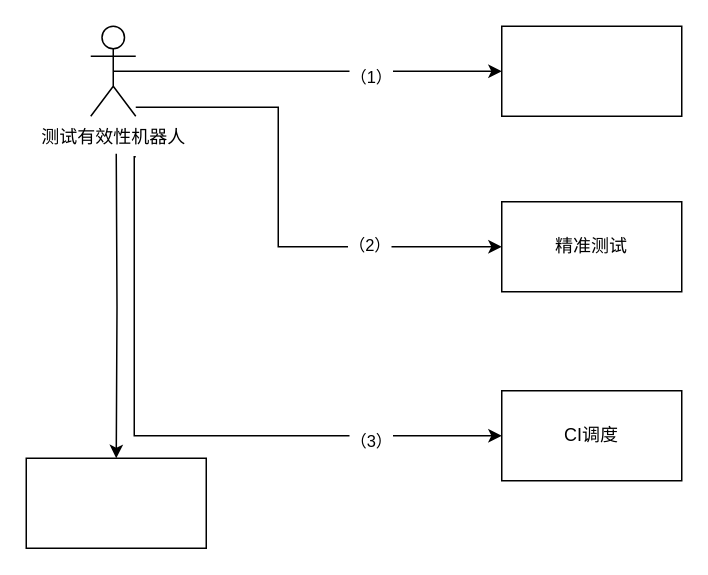
Image size: 708x575. Some labels were removed from this diagram. The shapes that lost their labels are listed below. From the top down, each one's box as (x1, y1, x2, y2) in pixels, then its label:
(500, 25, 682, 116): 变异注入
(25, 457, 206, 548): 质量报告
